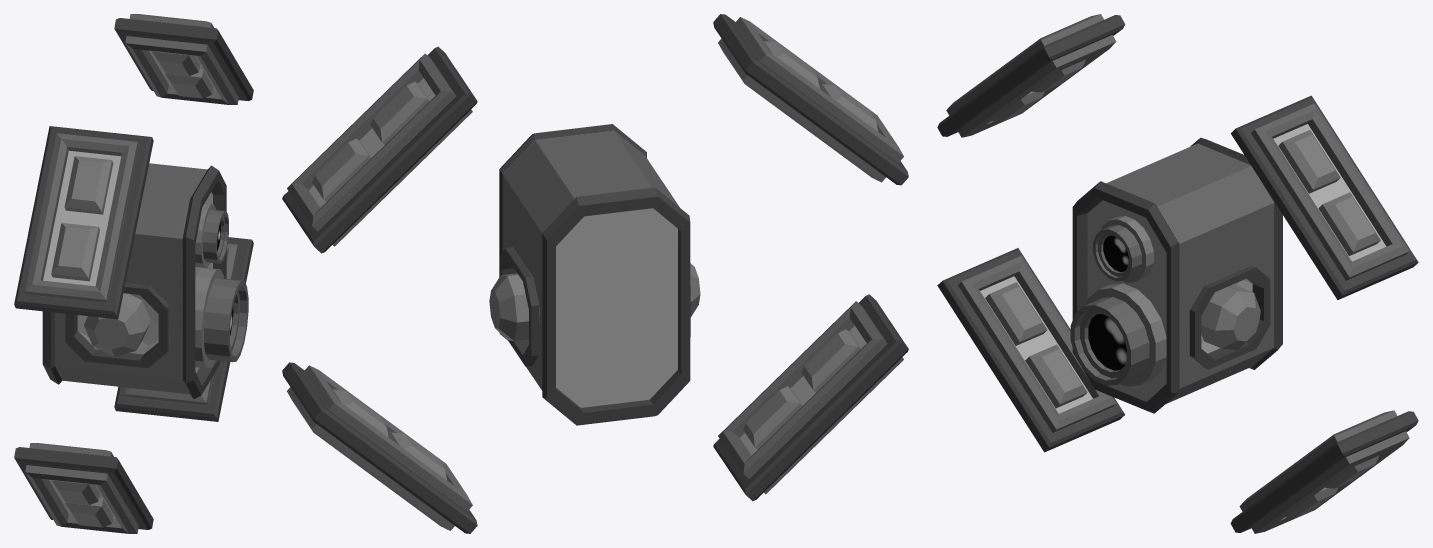
Rendered from Drone.fbx.
The picture shows the model from 3 angles, left to right: view 1: azimuth 30°, elevation 25°; view 2: azimuth 150°, elevation 25°; view 3: azimuth 270°, elevation 25°; orthographic projection. The views are drawn at different scales.
Visible parts, largest first — view 1: Drone; view 2: Drone; view 3: Drone.
Boxes of the visible parts, x1=… form: Drone: x1=14, y1=14, x2=253, y2=533; Drone: x1=282, y1=14, x2=908, y2=533; Drone: x1=937, y1=14, x2=1418, y2=533.
Size of the model in its own units: 541 by 508 by 548.
